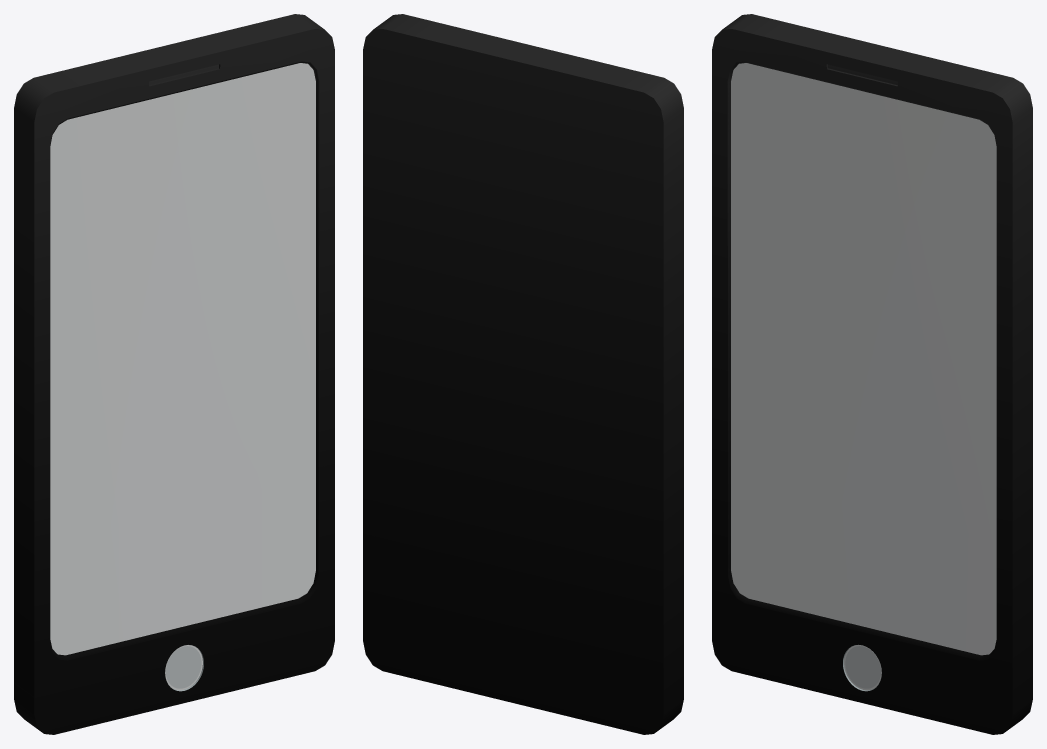
File: ModernToy2.fbx
The picture shows the model from 3 angles, left to right: view 1: azimuth 30°, elevation 25°; view 2: azimuth 150°, elevation 25°; view 3: azimuth 330°, elevation 25°; orthographic projection.
Visible parts, largest first — view 1: Cube; view 2: Cube; view 3: Cube.
Part boxes in pixels (x1=…): Cube: x1=14, y1=14, x2=334, y2=734; Cube: x1=363, y1=14, x2=683, y2=734; Cube: x1=712, y1=14, x2=1032, y2=734.
Size of the model in its own units: 1.8 by 3.68 by 0.21.
1 material, 1 textured.
